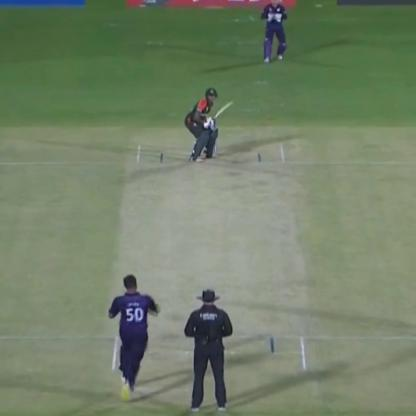bat: (209, 96, 235, 124)
pitch: (109, 144, 310, 384)
